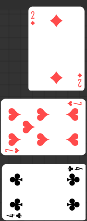2D: (29, 10, 36, 27)
4C: (66, 165, 83, 173)
7H: (66, 101, 83, 108)
